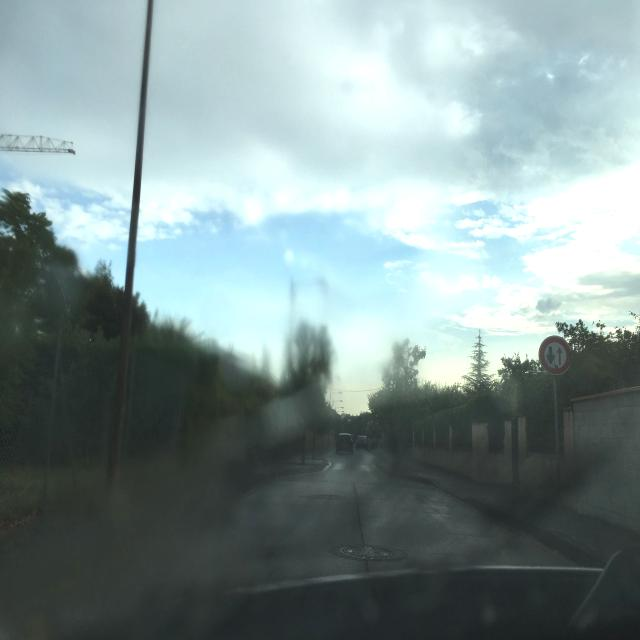car: (334, 432, 354, 454), (356, 434, 368, 450)
